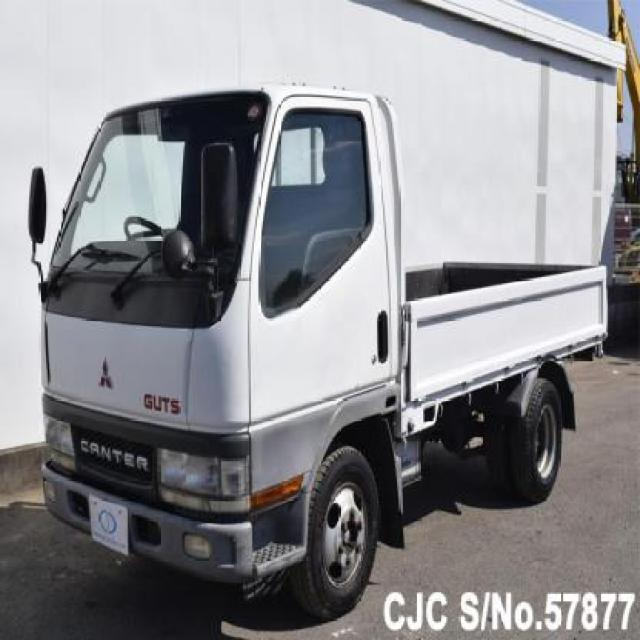truck: (29, 86, 607, 610)
